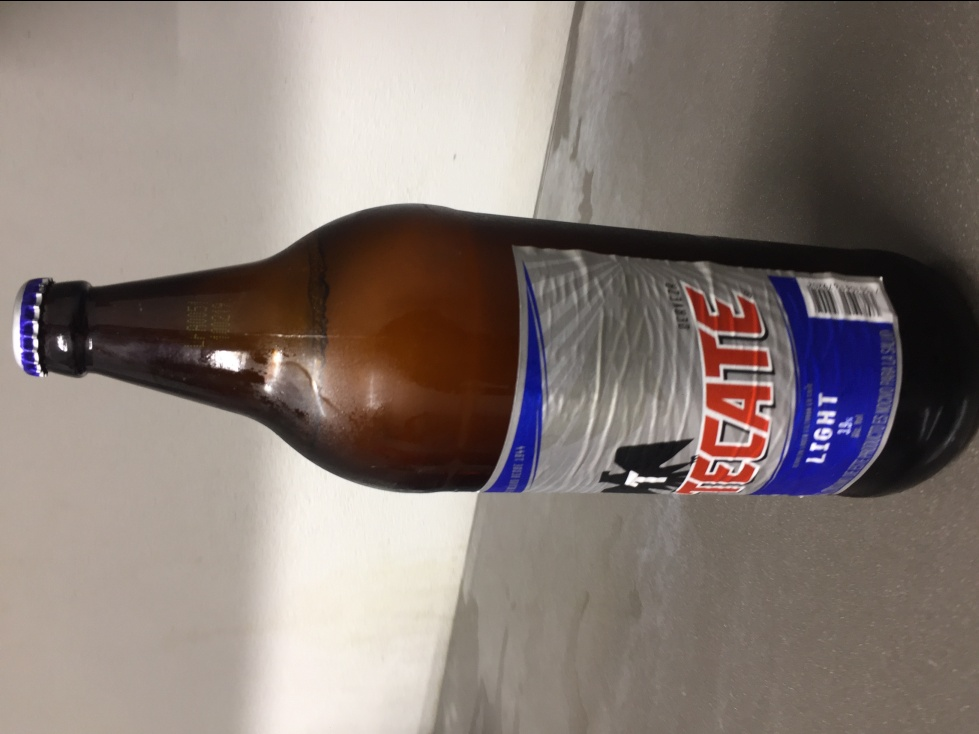tecateC: (11, 203, 978, 504)
